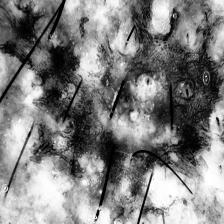Benign Marking or Mole: (91, 0, 220, 164)
